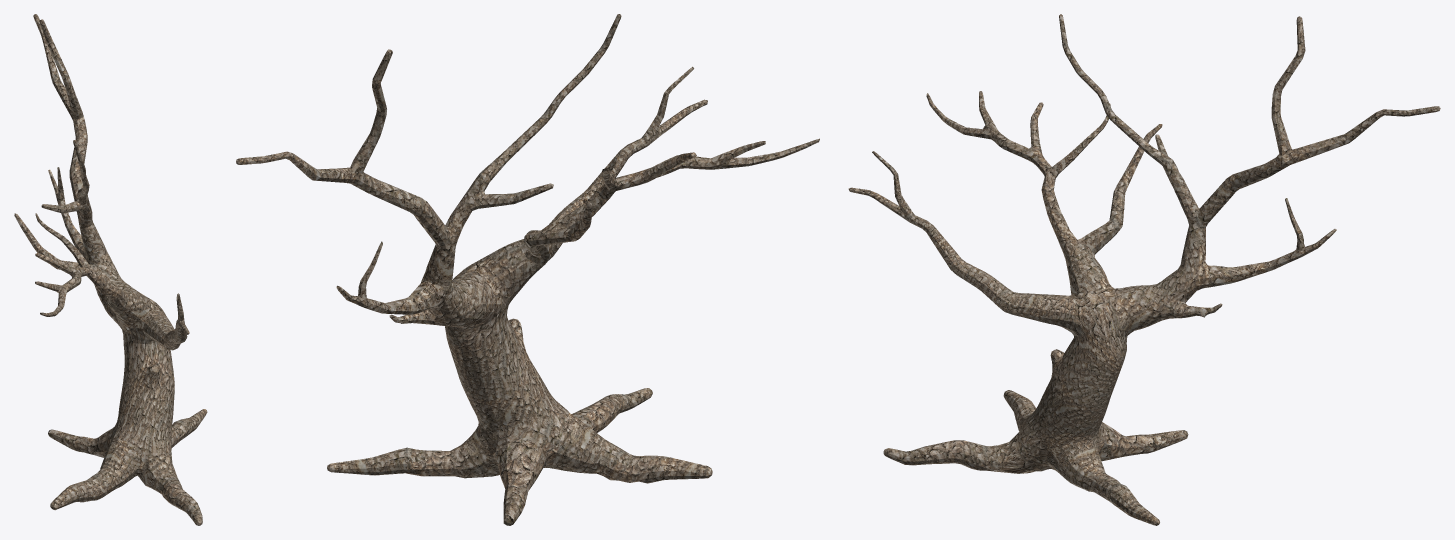
File: TreeThree 1.fbx
3 renders of one model, left to right at view 1: azimuth 30°, elevation 25°; view 2: azimuth 150°, elevation 25°; view 3: azimuth 270°, elevation 25°, orthographic. The views are drawn at different scales.
Parts seen in each view (by area): view 1: Tree_1; view 2: Tree_1; view 3: Tree_1.
Part boxes in pixels (x1,y1,x2,y2): Tree_1: (14, 14, 207, 525); Tree_1: (236, 14, 819, 525); Tree_1: (848, 14, 1440, 525).
Size of the model in its own units: 674 by 938 by 1103.
